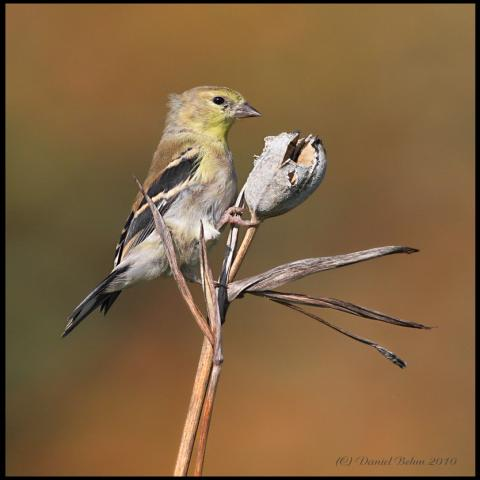bird: (59, 83, 263, 339)
